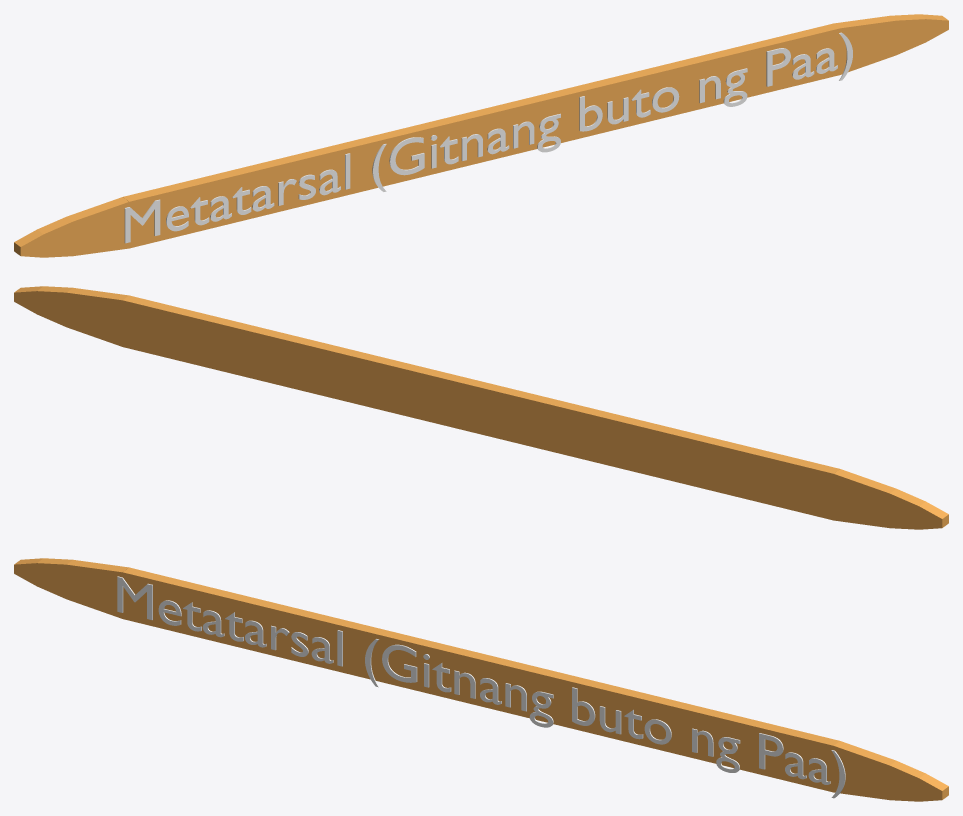
File: txtMetatarsal.fbx
3 renders of one model, top to bottom at view 1: azimuth 30°, elevation 25°; view 2: azimuth 150°, elevation 25°; view 3: azimuth 330°, elevation 25°, orthographic.
Visible parts, largest first — view 1: TagContainer.064, Text.065; view 2: TagContainer.064; view 3: TagContainer.064, Text.065.
Part boxes in pixels (x1=…): TagContainer.064: x1=14, y1=14, x2=948, y2=257; Text.065: x1=124, y1=32, x2=852, y2=243; TagContainer.064: x1=14, y1=286, x2=948, y2=529; TagContainer.064: x1=14, y1=558, x2=948, y2=801; Text.065: x1=117, y1=576, x2=845, y2=798.
Size of the model in its own units: 859 by 45.81 by 11.79.
